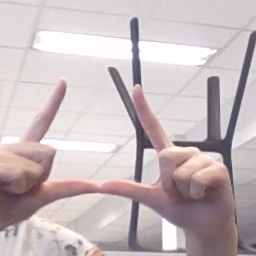U: (2, 74, 238, 231)
